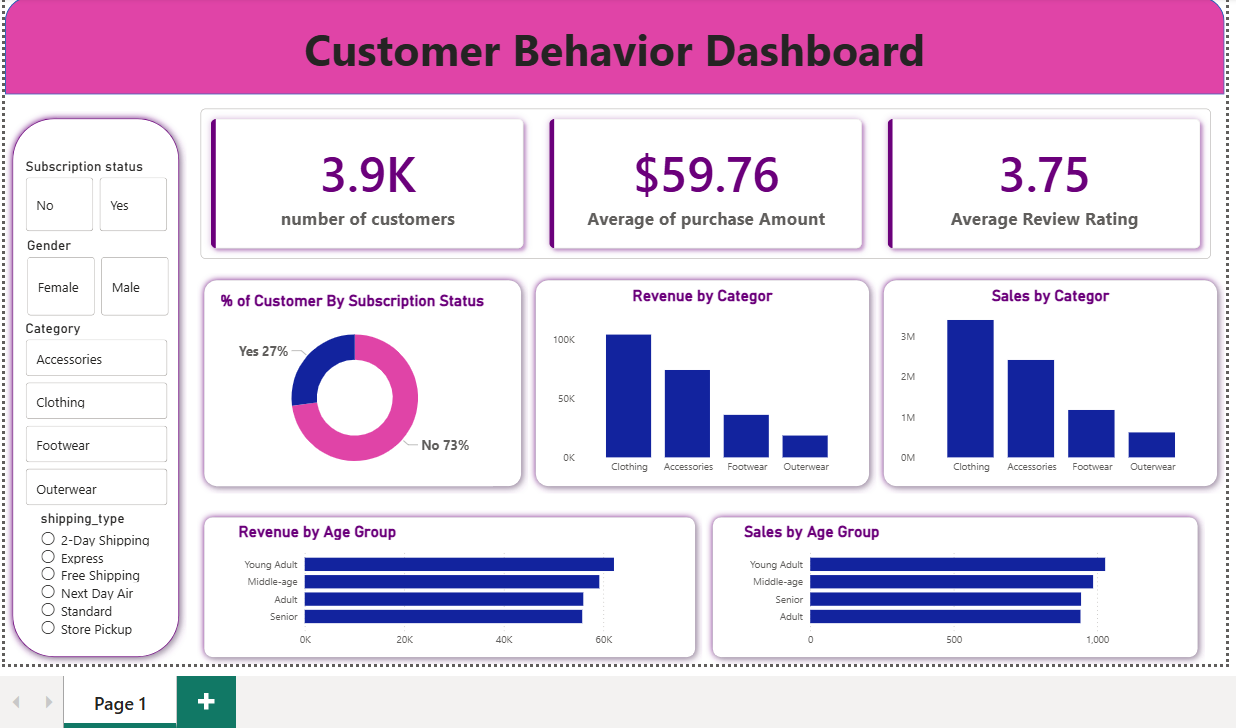

What the dashboard file says about the page in this screenshot:
{"tool":"powerbi","page":{"name":"Page 1","canvas":[1500,820],"ordinal":0},"visuals":[{"type":"cardVisual","fields":{"Data":["public customer.number of customers","public customer.Average of purchase Amount","public customer.Average Review Rating"]},"box":[223.1,119.9,1276.1,219.5],"z":0},{"type":"shape","box":[0,0,1499.3,119.9],"z":1000},{"type":"textbox","box":[0,22.1,1499.3,118],"z":2000},{"type":"shape","box":[1071.4,339.3,427.8,271.1],"z":3000},{"type":"shape","box":[643.6,339.3,427.8,271.1],"z":4000},{"type":"shape","box":[236,339.3,407.6,271.1],"z":5000},{"type":"donutChart","title":"% of Customer By Subscription Status","fields":{"Category":["public customer.subscription_status"],"Y":["CountNonNull(public customer.customer_id)"]},"box":[260,361.4,339.3,239.7],"z":6000},{"type":"clusteredColumnChart","title":"Revenue by Categor","fields":{"Y":["Sum(public customer.purchase_amount)"],"Category":["public customer.category"]},"box":[667.6,355.9,379.9,239.7],"z":7000},{"type":"clusteredColumnChart","title":"Sales by Categor","fields":{"Y":["Sum(public customer.customer_id)"],"Category":["public customer.category"]},"box":[1095.4,355.9,379.9,239.7],"z":8000},{"type":"shape","box":[0,140.2,223.1,680.5],"z":9000},{"type":"advancedSlicerVisual","fields":{"Values":["public customer.subscription_status"]},"box":[20.3,197.3,184.4,95.9],"z":10000},{"type":"advancedSlicerVisual","fields":{"Values":["public customer.gender"]},"box":[22.1,295.1,184.4,101.4],"z":11000},{"type":"advancedSlicerVisual","fields":{"Values":["public customer.category"]},"box":[20.3,396.5,184.4,236],"z":12000},{"type":"listSlicer","fields":{"Values":["public customer.shipping_type"]},"box":[38.7,630.7,149.4,164.1],"z":13000},{"type":"shape","box":[236,630.7,621.5,189.9],"z":14000},{"type":"shape","box":[861.2,630.7,614.1,189.9],"z":15000},{"type":"clusteredBarChart","title":"Revenue by Age Group","fields":{"Y":["Sum(public customer.purchase_amount)"],"Category":["public customer.age_group"]},"box":[282.2,645.4,529.3,162.3],"z":16000},{"type":"clusteredBarChart","title":"Sales by Age Group","fields":{"Category":["public customer.age_group"],"Y":["CountNonNull(public customer.customer_id)"]},"box":[903.6,645.4,529.3,162.3],"z":17000}]}

Visuals, with their boxes in screenshot pixels (x1, y1, x2, y2):
cardVisual - public customer.number of customers x public customer.Average of purchase Amount: bbox=(185, 171, 1221, 350)
shape: bbox=(3, 74, 1222, 171)
textbox: bbox=(3, 92, 1222, 188)
shape: bbox=(874, 350, 1221, 570)
shape: bbox=(526, 350, 874, 570)
shape: bbox=(195, 350, 526, 570)
"% of Customer By Subscription Status" donutChart: bbox=(214, 368, 490, 562)
"Revenue by Categor" clusteredColumnChart: bbox=(546, 363, 854, 558)
"Sales by Categor" clusteredColumnChart: bbox=(893, 363, 1202, 558)
shape: bbox=(3, 188, 185, 727)
advancedSlicerVisual - public customer.subscription_status: bbox=(20, 234, 170, 312)
advancedSlicerVisual - public customer.gender: bbox=(21, 314, 171, 396)
advancedSlicerVisual - public customer.category: bbox=(20, 396, 170, 588)
listSlicer - public customer.shipping_type: bbox=(35, 587, 156, 720)
shape: bbox=(195, 587, 700, 727)
shape: bbox=(703, 587, 1202, 727)
"Revenue by Age Group" clusteredBarChart: bbox=(233, 598, 663, 727)
"Sales by Age Group" clusteredBarChart: bbox=(737, 598, 1168, 727)
